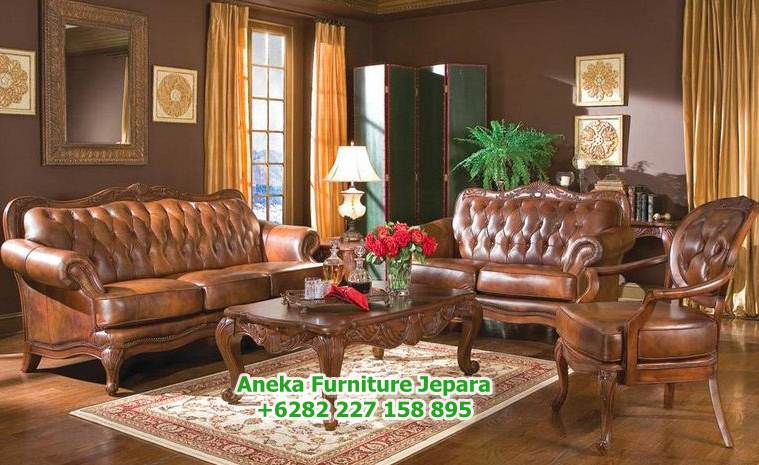Carving Chair: (3, 177, 330, 381), (563, 201, 748, 445), (385, 184, 621, 330)
Carving Table: (214, 286, 488, 415)
